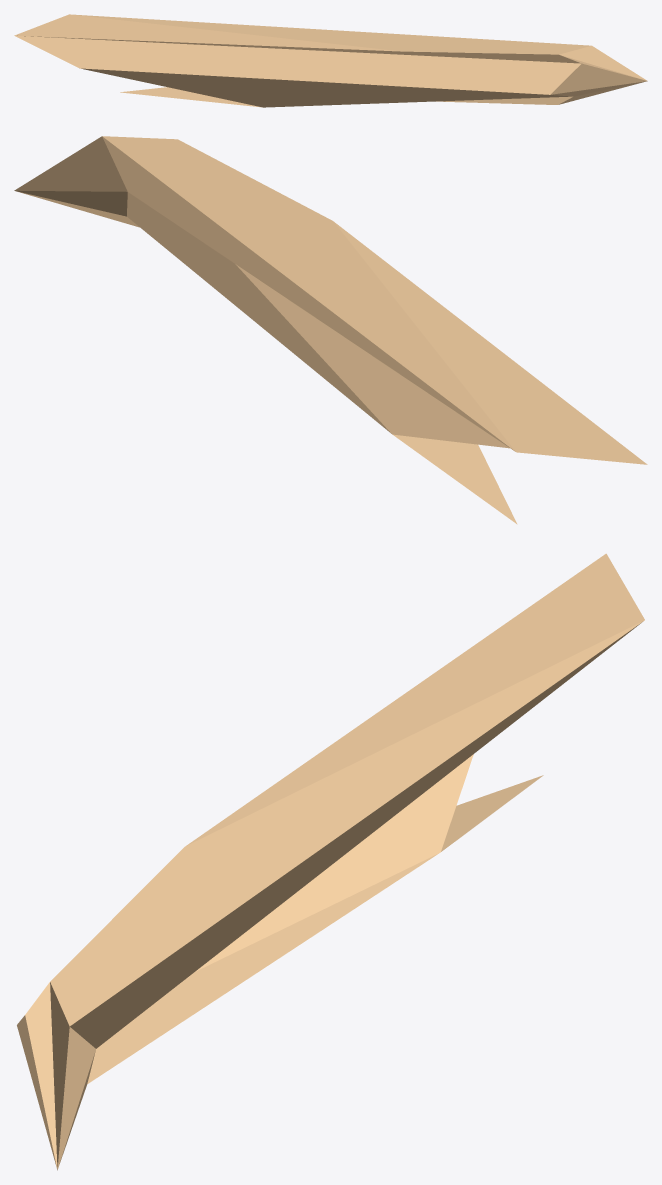
The model's file is Branch 1.fbx.
The picture shows the model from 3 angles, top to bottom: view 1: azimuth 30°, elevation 25°; view 2: azimuth 150°, elevation 25°; view 3: azimuth 270°, elevation 25°; orthographic projection. The views are drawn at different scales.
Visible parts, largest first — view 1: Branch 1; view 2: Branch 1; view 3: Branch 1.
Part boxes in pixels (x1=…): Branch 1: x1=14, y1=14, x2=647, y2=107; Branch 1: x1=14, y1=136, x2=647, y2=524; Branch 1: x1=17, y1=553, x2=644, y2=1170.
Bounding box in the file's own units: 25 × 3.33 × 13.69.
